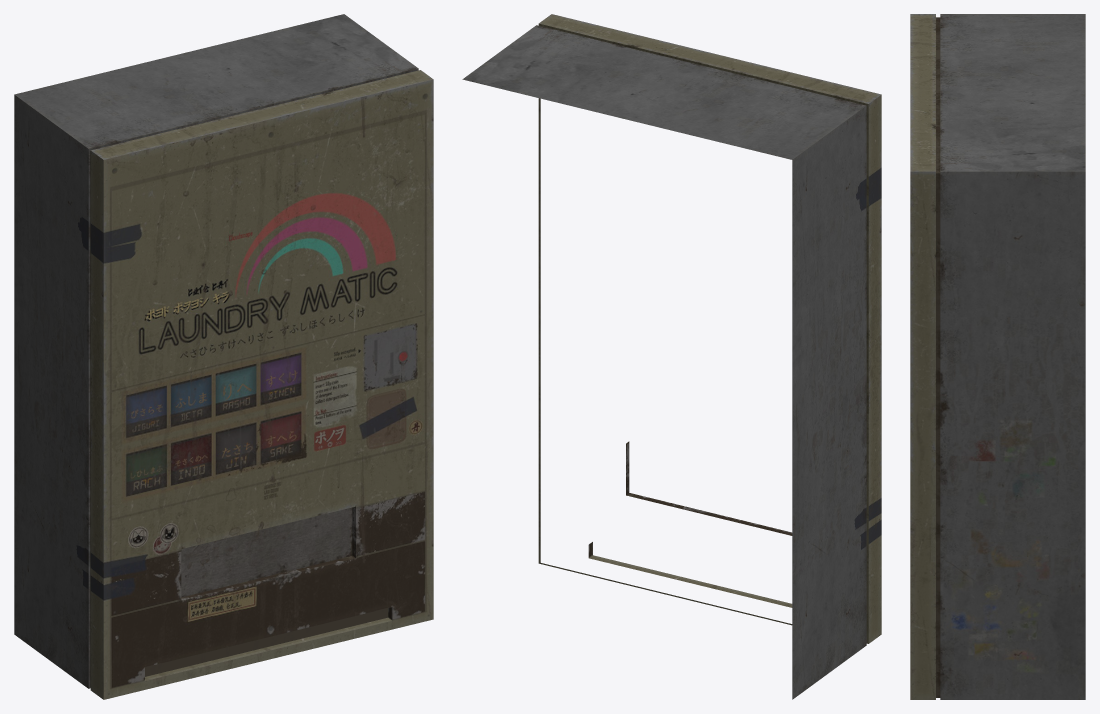
Rendered from retro_soap_dispenser2k.glb.
The picture shows the model from 3 angles, left to right: view 1: azimuth 30°, elevation 25°; view 2: azimuth 150°, elevation 25°; view 3: azimuth 270°, elevation 25°; orthographic projection. The views are drawn at different scales.
Parts seen in each view (by area): view 1: soap_dispenser_low; view 2: soap_dispenser_low; view 3: soap_dispenser_low.
Boxes of the visible parts, x1,y1,x2,y2 form: soap_dispenser_low: (14, 14, 433, 699); soap_dispenser_low: (462, 14, 881, 699); soap_dispenser_low: (910, 14, 1085, 699).
Size of the model in its own units: 0.3856 by 0.6029 by 0.1811.
1 material, 1 textured.
